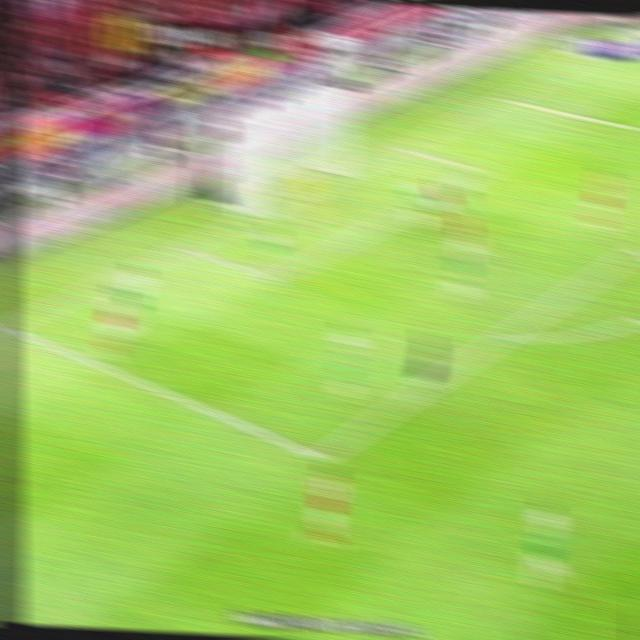bigarea_bottom_inner: (304, 440, 335, 473)
bigarea_bottom_outter: (2, 315, 18, 336)
bigarea_top_outter: (493, 91, 517, 107)
bottom_arc_area_intersection: (487, 324, 518, 352)
smallarea_bottom_inner: (257, 266, 284, 290)
smallarea_bottom_outter: (173, 236, 197, 257)
smallarea_top_inner: (470, 162, 495, 182)
smallarea_top_outter: (388, 140, 411, 158)
